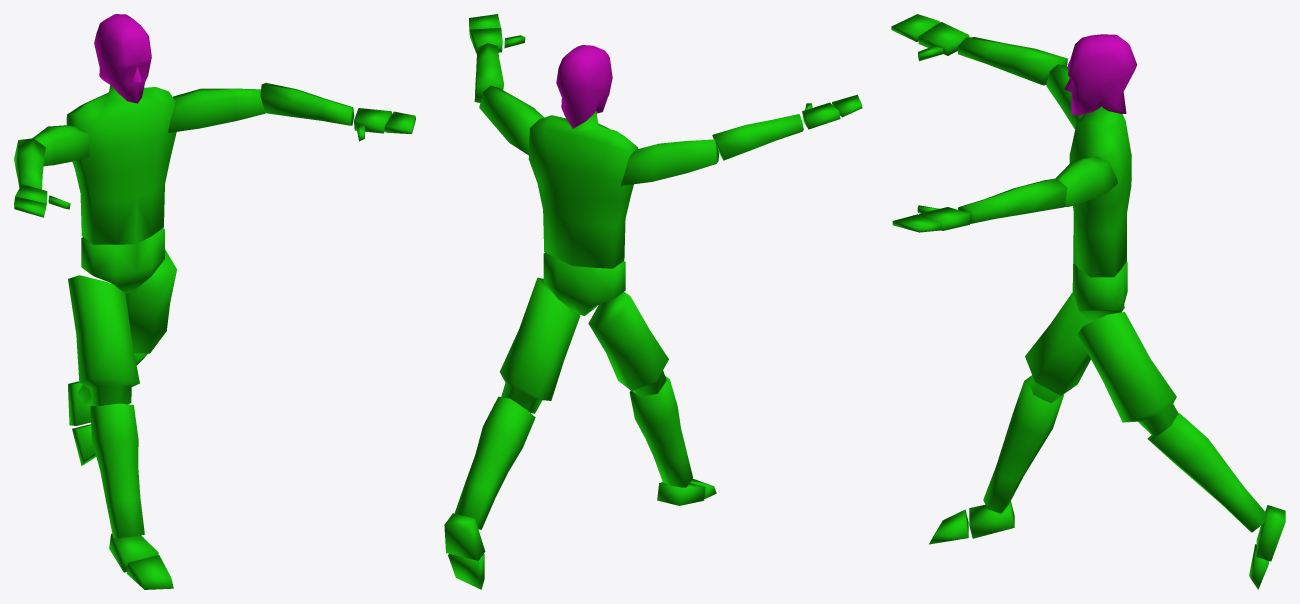
The model's file is SurfaceSwimmingCharacter.FBX.
The picture shows the model from 3 angles, left to right: view 1: azimuth 30°, elevation 25°; view 2: azimuth 150°, elevation 25°; view 3: azimuth 270°, elevation 25°; orthographic projection. The views are drawn at different scales.
Visible parts, largest first — view 1: Body, Head; view 2: Body, Head; view 3: Body, Head.
Part boxes in pixels (left/top/right/bottom): Body: left=14, top=83, right=415, bottom=589; Head: left=94, top=14, right=151, bottom=103; Body: left=444, top=14, right=862, bottom=589; Head: left=556, top=45, right=612, bottom=128; Body: left=891, top=14, right=1285, bottom=589; Head: left=1064, top=34, right=1137, bottom=115.
Bounding box in the file's own units: 1.6 × 1.93 × 1.3.
